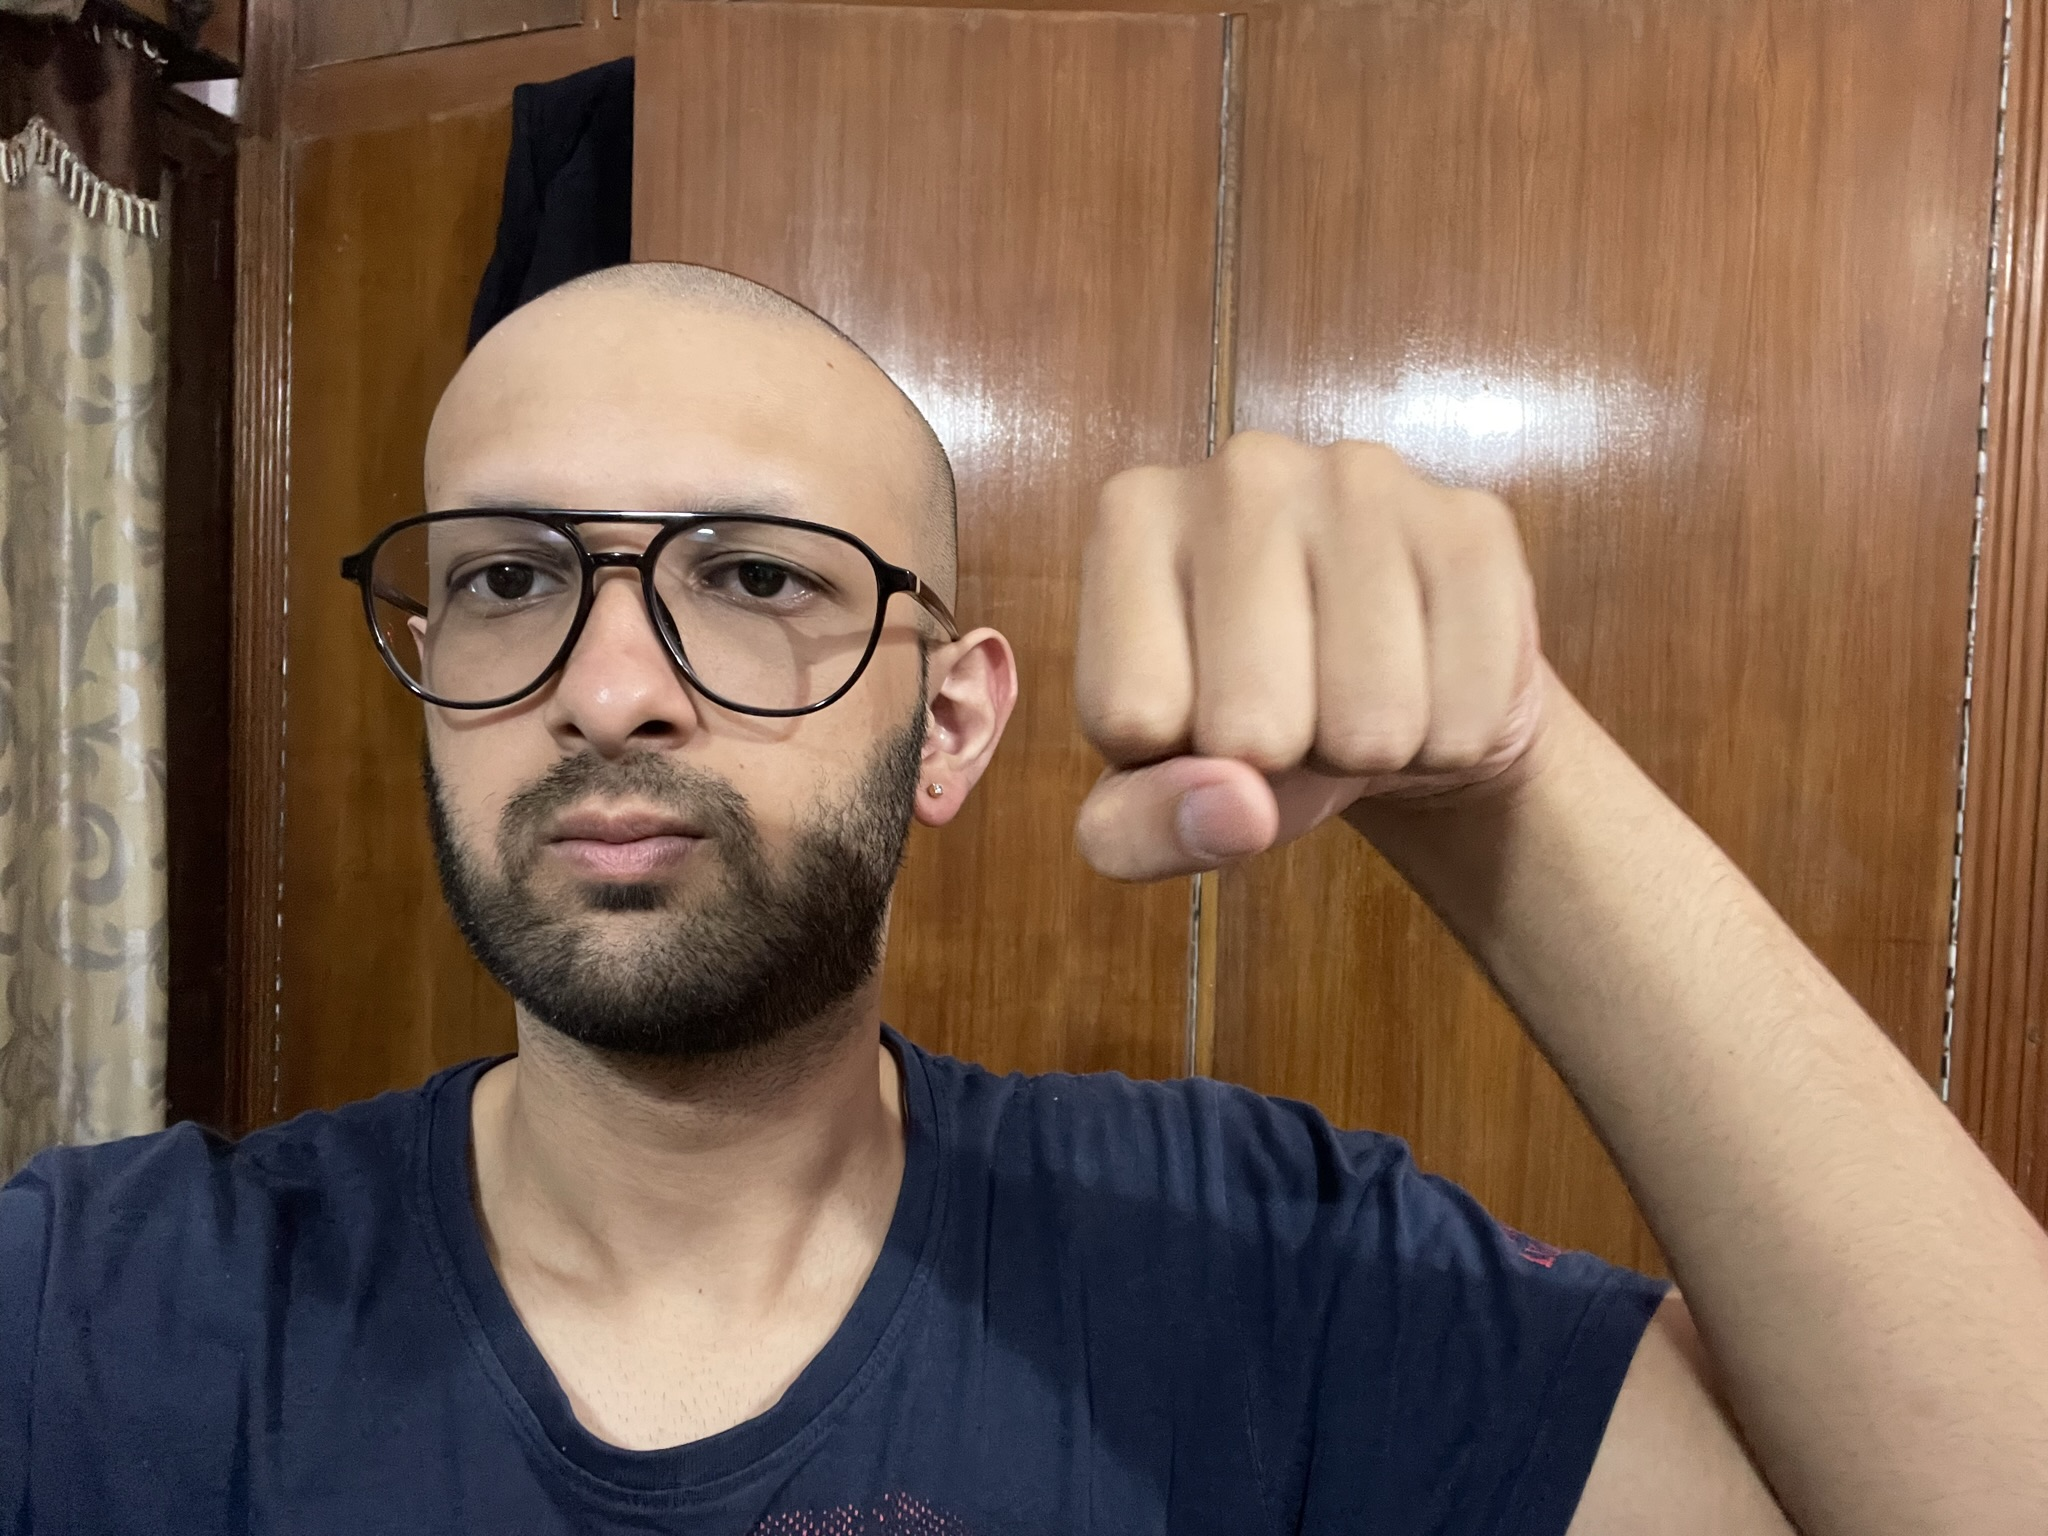Yes: (1048, 411, 1566, 887)
